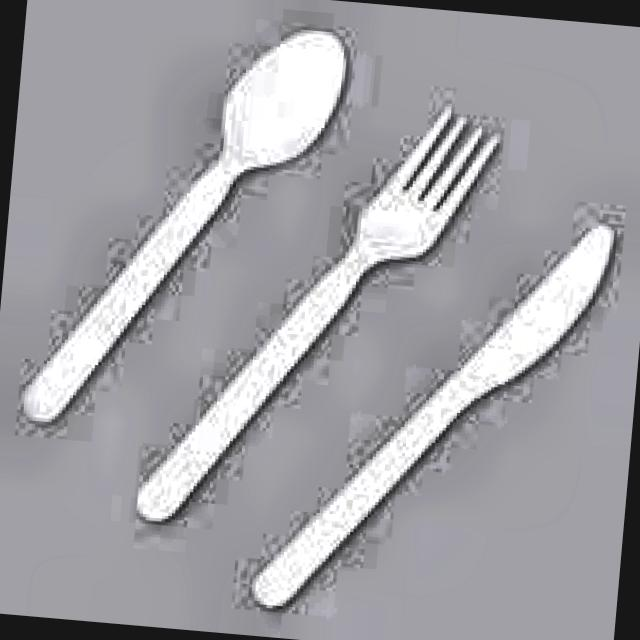plastic utensil: (137, 110, 496, 521), (256, 230, 612, 608), (24, 34, 345, 422)
